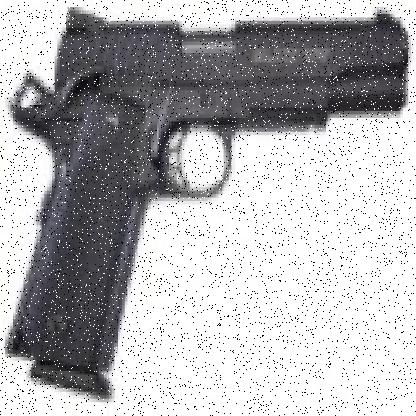pistol: (3, 3, 414, 381)
